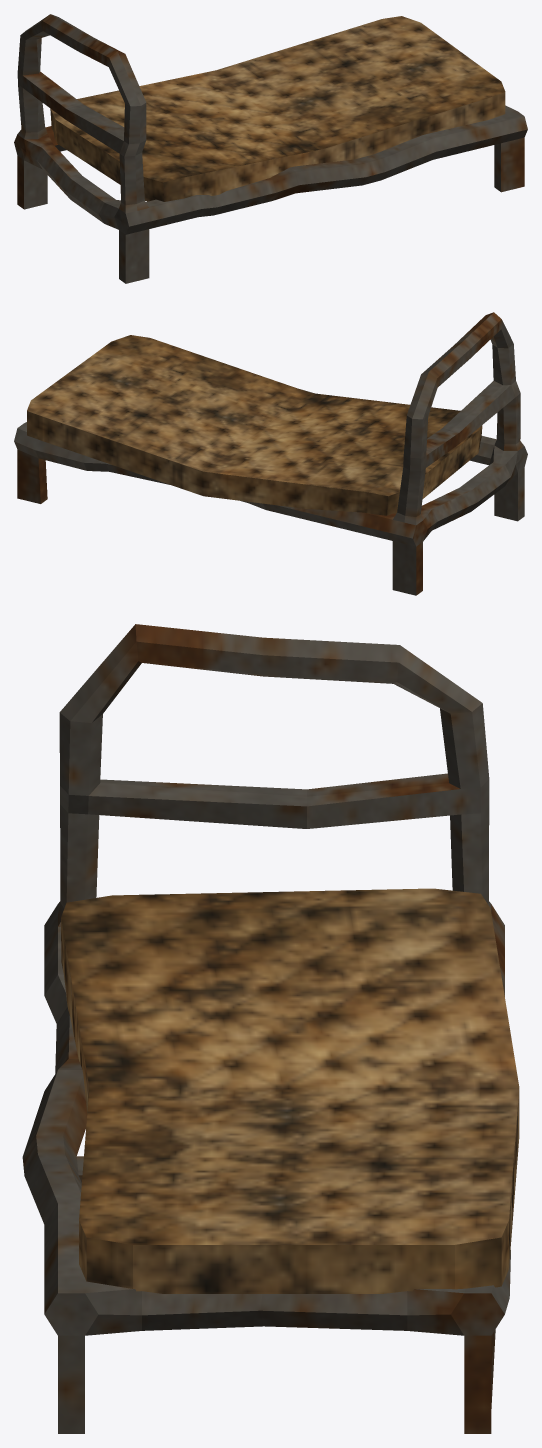
File: Bed_01_D.fbx
3 views of the same model, one above another, from view 1: azimuth 30°, elevation 25°; view 2: azimuth 150°, elevation 25°; view 3: azimuth 270°, elevation 25° (orthographic). The views are drawn at different scales.
Visible parts, largest first — view 1: Matress_D, Bed_01_D; view 2: Matress_D, Bed_01_D; view 3: Matress_D, Bed_01_D.
Part boxes in pixels (x1,y1,x2,y2): Matress_D: (50, 16, 505, 201); Bed_01_D: (14, 14, 527, 283); Matress_D: (27, 335, 482, 515); Bed_01_D: (14, 312, 527, 595); Matress_D: (61, 888, 519, 1293); Bed_01_D: (22, 624, 510, 1433).
Bounding box in the file's own units: 224 × 113 × 118.
2 materials, 2 textured.
